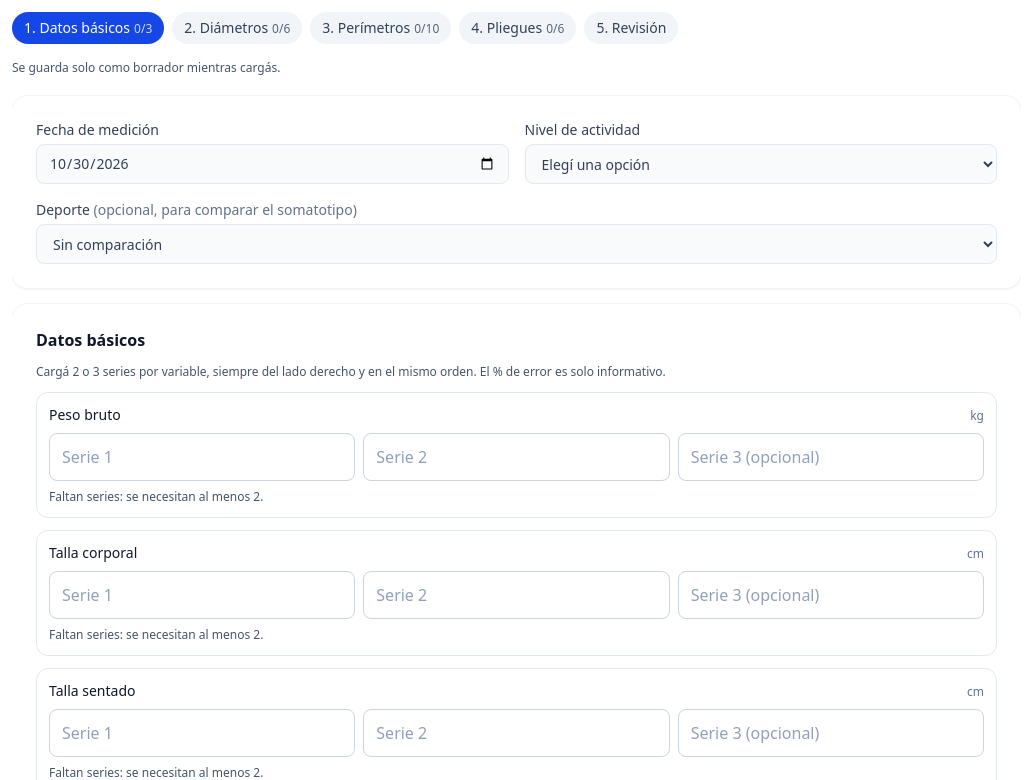
Test case: MedicionWizard — carga › un error de medición alto NO bloquea: solo informa
Step 1. Type "50" into the field named "Peso bruto, serie 1" → (202, 457), box [49,433,355,481]
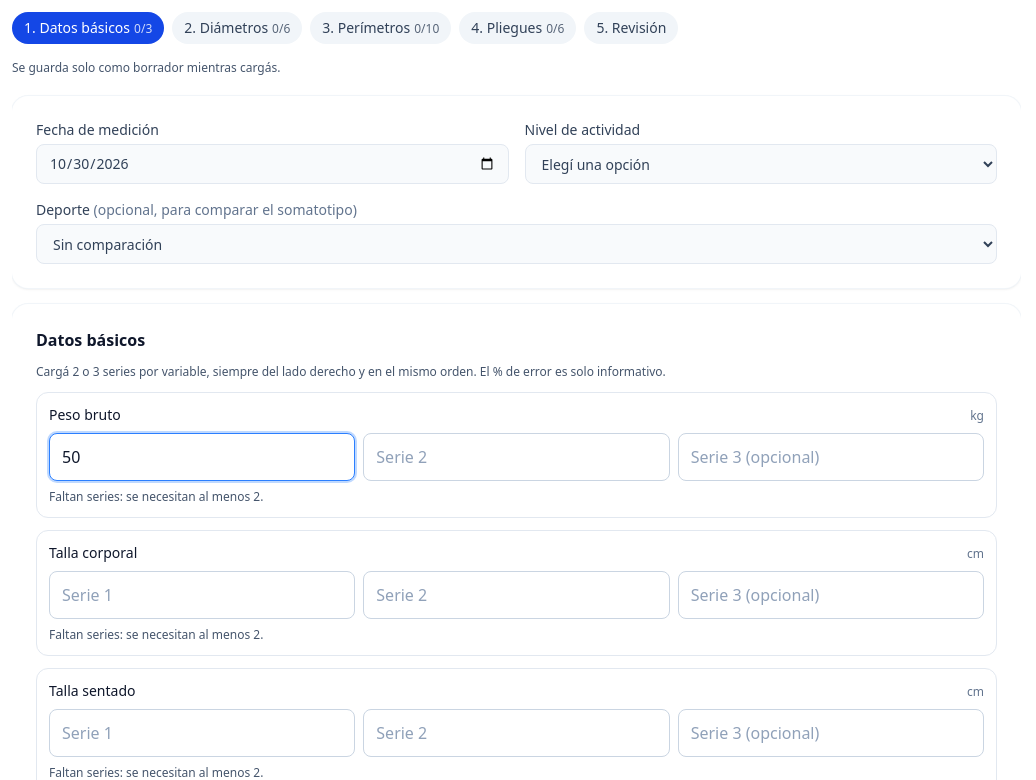
Step 2. Type "60" into the field named "Peso bruto, serie 2" → (516, 457), box [363,433,670,481]
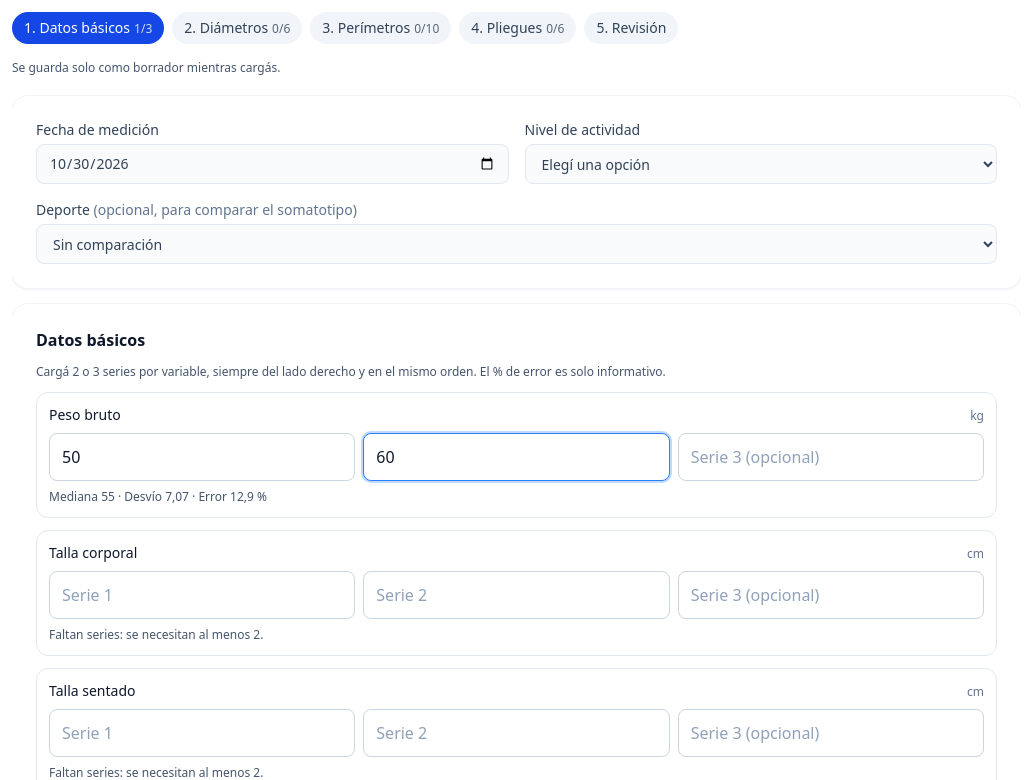
Expected: the text "Mediana 55 · Desvío 7,07 · Error 12,9 %" is shown, [49,488,267,505]
